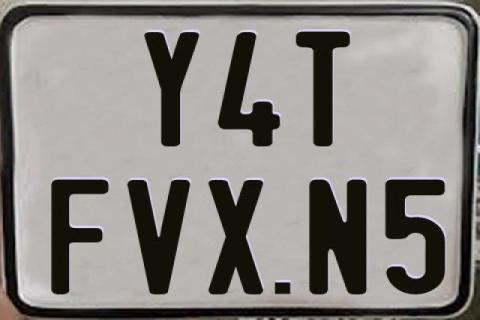0: (382, 177, 446, 297), (216, 32, 280, 148)
F: (50, 180, 114, 298)
N: (309, 178, 369, 296)
T: (296, 31, 351, 147)
V: (127, 180, 195, 296)
X: (206, 178, 262, 294)
Y: (142, 31, 203, 147)
